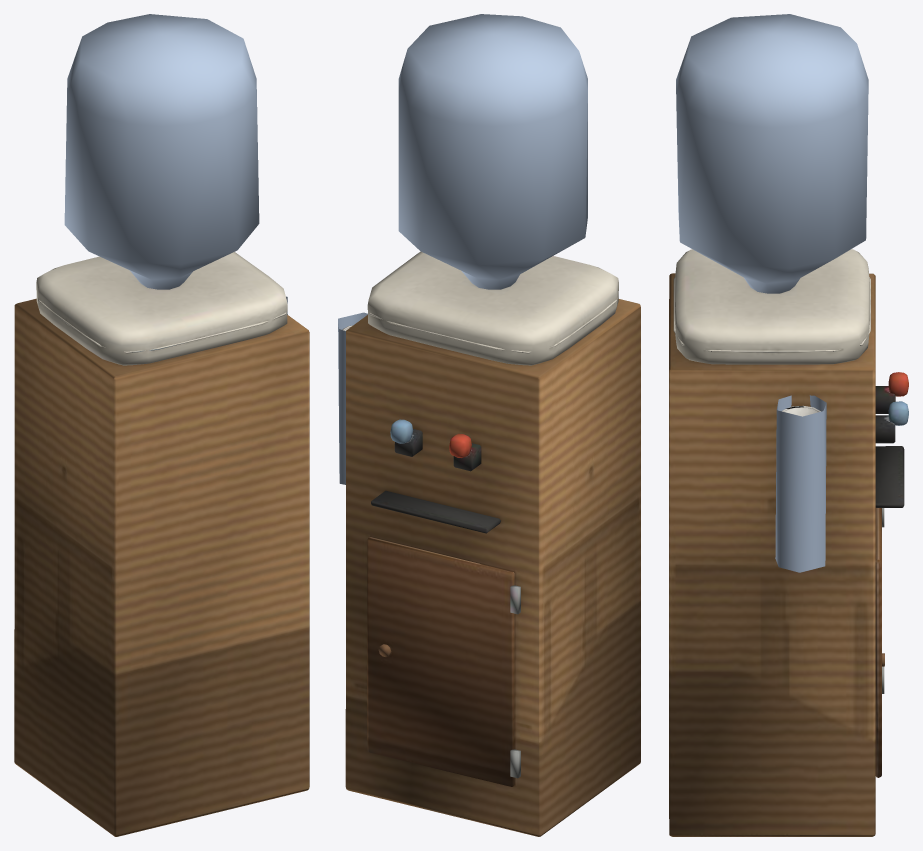
The model's file is water_server.glb.
The picture shows the model from 3 angles, left to right: view 1: azimuth 30°, elevation 25°; view 2: azimuth 150°, elevation 25°; view 3: azimuth 270°, elevation 25°; orthographic projection.
Visible parts, largest first — view 1: prop_water_server_wood, prop_water_server_glass, prop_water_server_felt; view 2: prop_water_server_wood, prop_water_server_glass, prop_water_server_felt; view 3: prop_water_server_wood, prop_water_server_glass, prop_water_server_felt.
Boxes of the visible parts, bbox=[...] form: prop_water_server_wood: bbox=[14, 298, 309, 836]; prop_water_server_glass: bbox=[64, 14, 287, 314]; prop_water_server_felt: bbox=[36, 252, 287, 365]; prop_water_server_wood: bbox=[345, 299, 640, 836]; prop_water_server_glass: bbox=[338, 14, 587, 484]; prop_water_server_felt: bbox=[342, 251, 618, 778]; prop_water_server_wood: bbox=[669, 273, 884, 836]; prop_water_server_glass: bbox=[676, 14, 868, 572]; prop_water_server_felt: bbox=[673, 249, 908, 693].
Size of the model in its own units: 0.9734 by 2.9 by 0.8349.
Materials: 3 (2 with a texture image).
